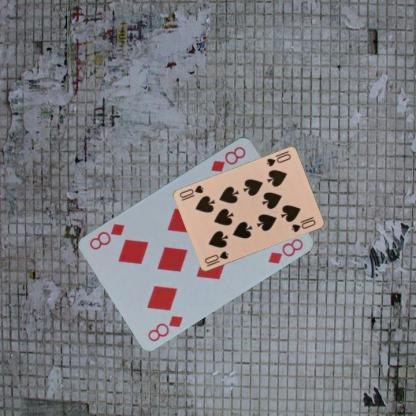10s: (202, 249, 230, 268), (263, 152, 292, 168)
8d: (145, 312, 184, 343), (208, 144, 248, 173)
